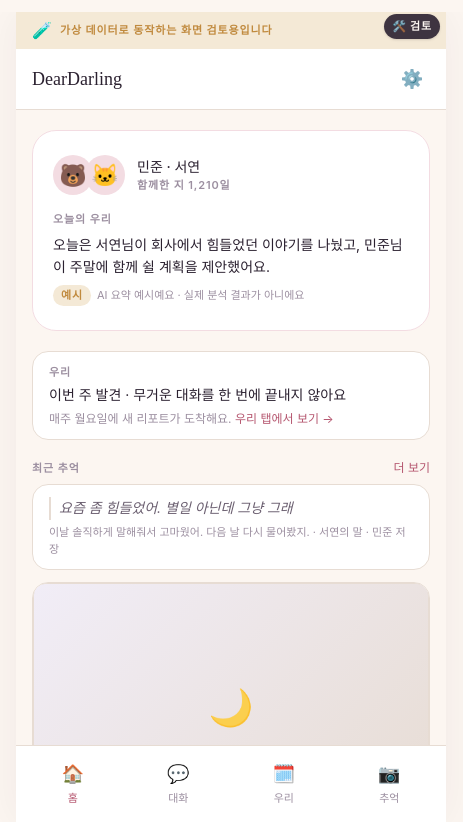
Scenario: 설정 화면 › 코칭 카드 표시를 꺼도 커플 분석은 "활성"이고 대화 화면은 코칭 카드만 숨겨진다
Click the button named "설정" at [412, 79], box [394, 61, 430, 97]
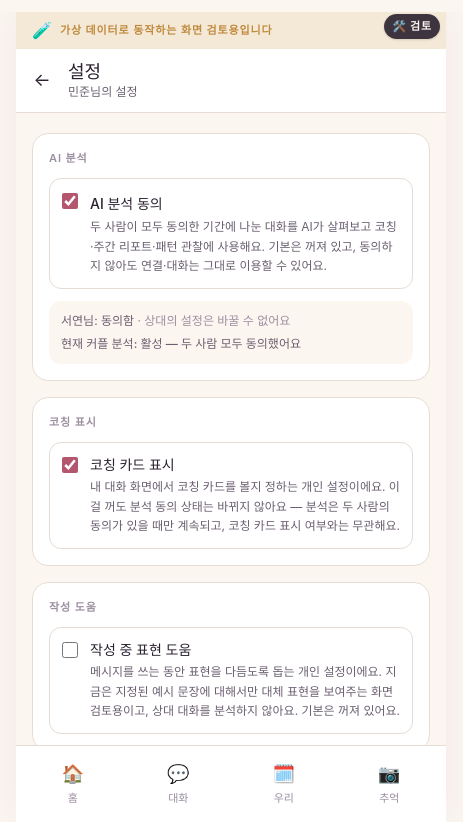
Click the checkbox labelled "코칭 카드 표시" at [70, 465], box [62, 457, 78, 473]
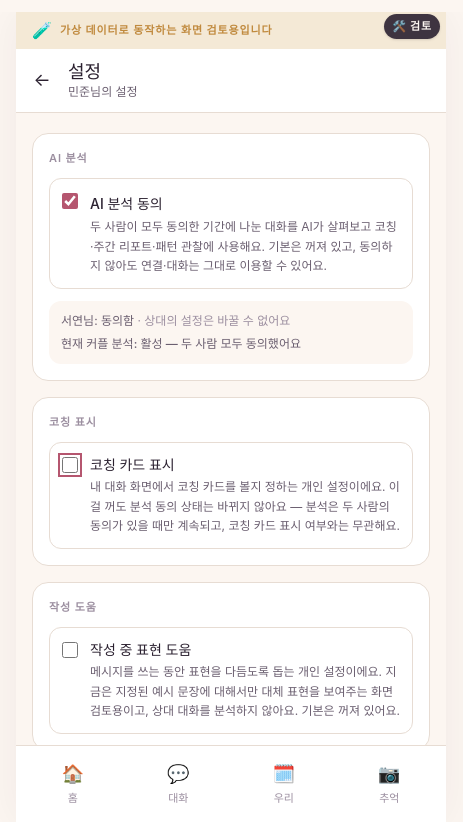
Expected: the text "현재 커플 분석: 활성 — 두 사람 모두 동의했어요" is shown, [61, 336, 301, 351]
Click the button "💬 대화" at [178, 783], box [126, 754, 231, 812]
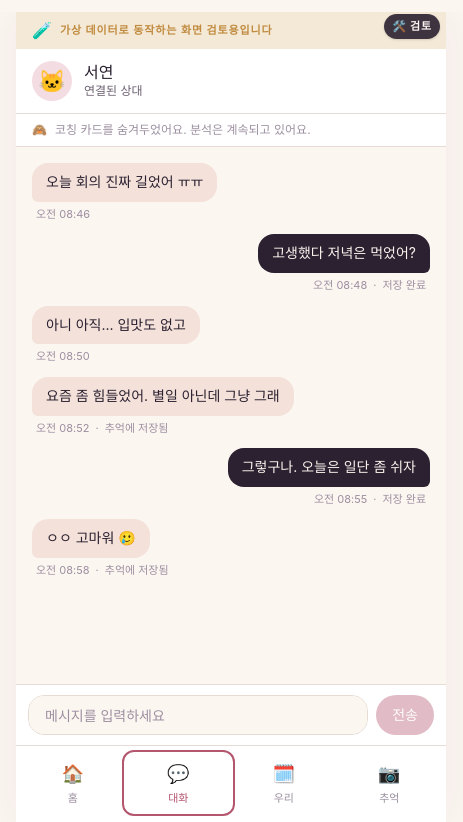
Expected: the text "코칭 카드를 숨겨두었어요. 분석은 계속되고 있어요." is shown, [55, 122, 311, 138]
